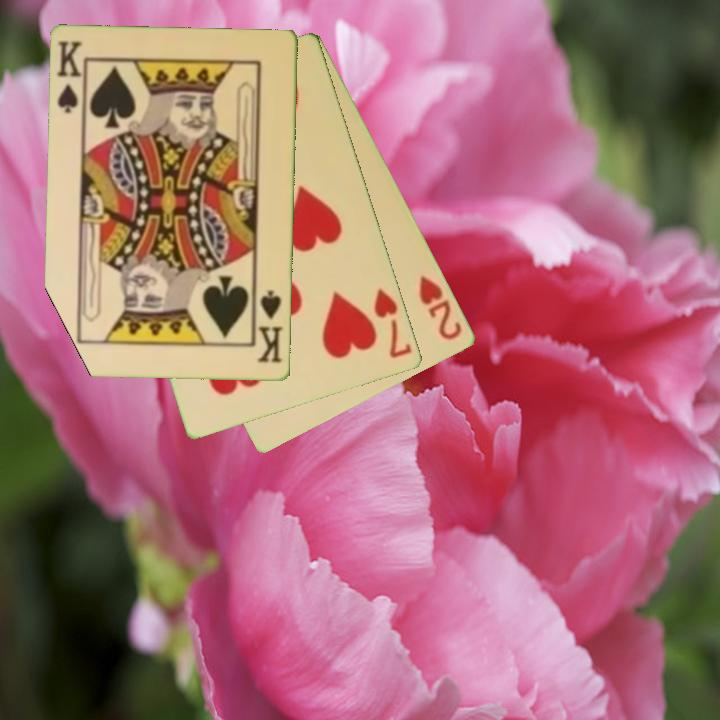2h: (416, 271, 466, 344)
7h: (370, 285, 416, 362)
Ks: (54, 38, 88, 119), (252, 287, 286, 366)
